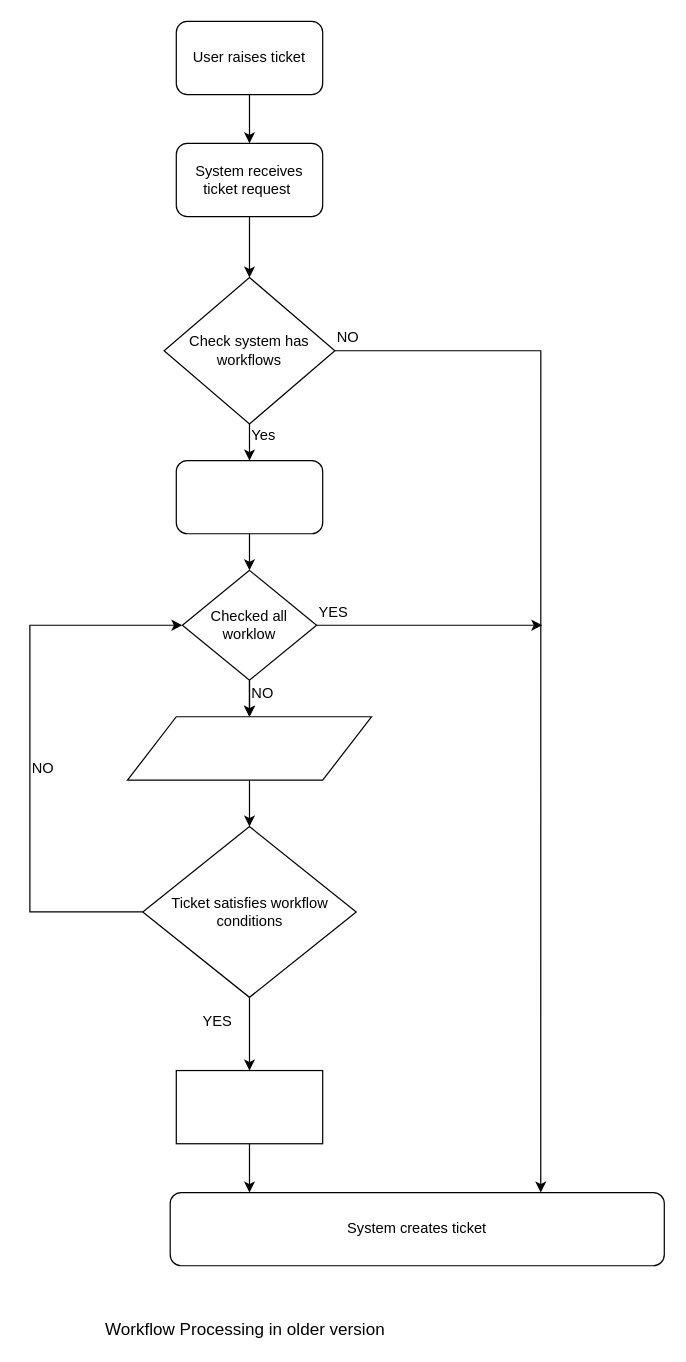
Some shapes in this 686 by 1362 pixel diagram are drawn without their labels. The centre of each missing label's shape, as x and y in pixels:
"perform workflow actions and update ticket's values" goes at [249,1106].
"Pick workflow/next workflow" goes at [248,748].
"sort workflows in execution order" goes at [249,496].
